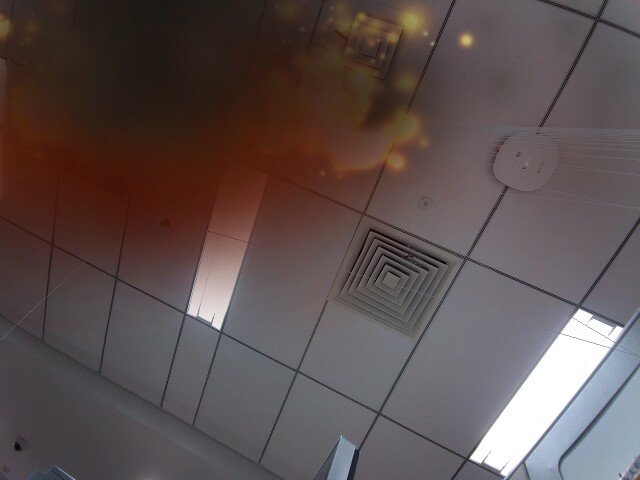fire: (329, 100, 397, 173)
